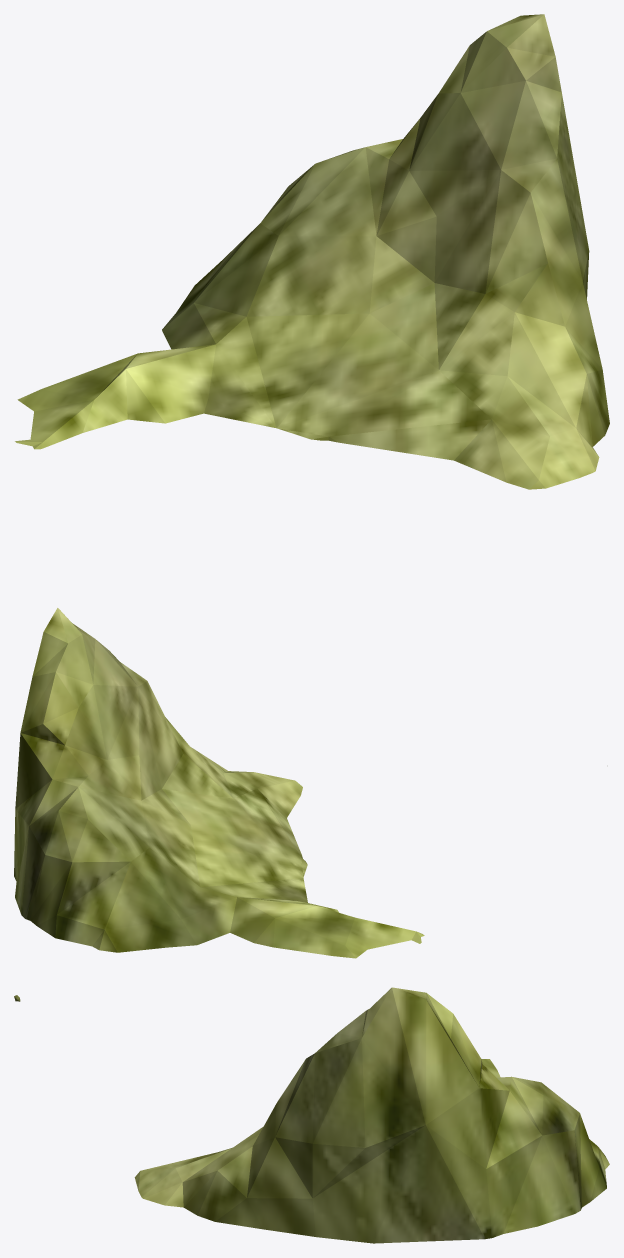
3 views of the same model, one above another, from view 1: azimuth 30°, elevation 25°; view 2: azimuth 150°, elevation 25°; view 3: azimuth 270°, elevation 25° (orthographic). The views are drawn at different scales.
Bounding box in the file's own units: 1.31 × 0.7418 × 1.59.
1 material, 1 textured.
